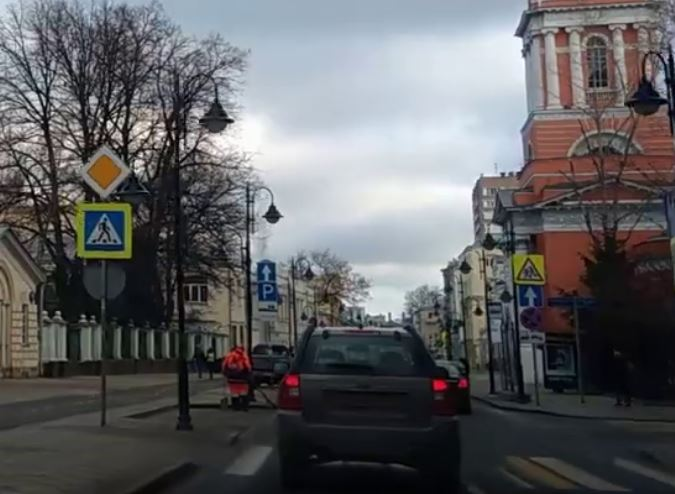Yaya Gecidi: (83, 211, 124, 251)
